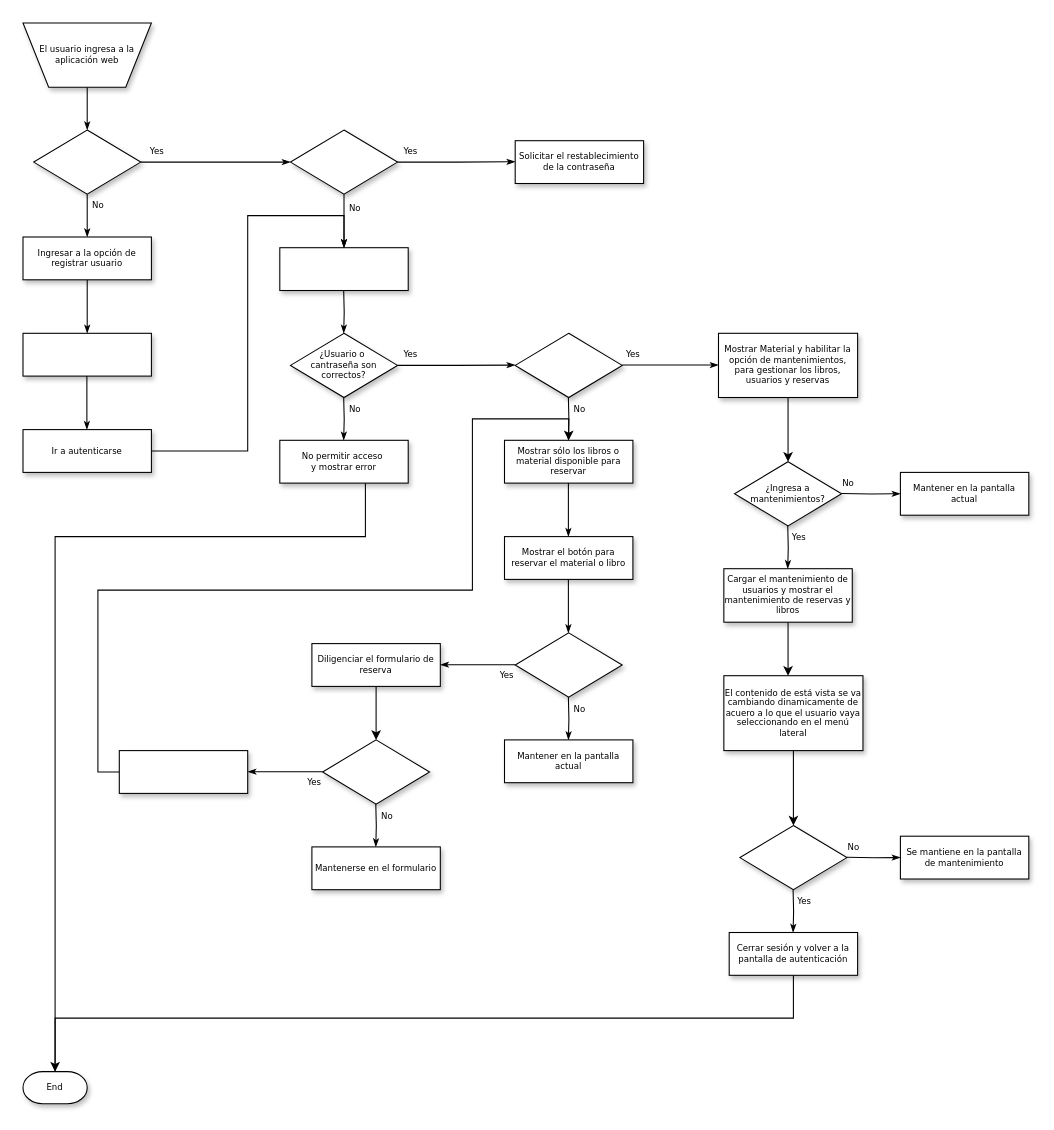
The diagram is 1054 pixels wide and 1130 high, and some of its shapes have lost their labels. Here are the shapes that lost their labels. From the top down, the centre of each, then its label:
[87,163]: ¿El usuario ya se encuentra registrado?
[344,163]: ¿El usuario olvidó su contraseña?
[344,270]: Ingresar usuario y contraseña
[88,356]: Diligenciar todos los datos solicitados en el formulario de registro
[569,366]: ¿Es usuario administrador?
[569,666]: ¿Presiona el botón de reservar?
[184,773]: Registrar la reserva
[376,773]: ¿Presiona el botón de guardar?
[794,858]: ¿Usuario cierra sesión
